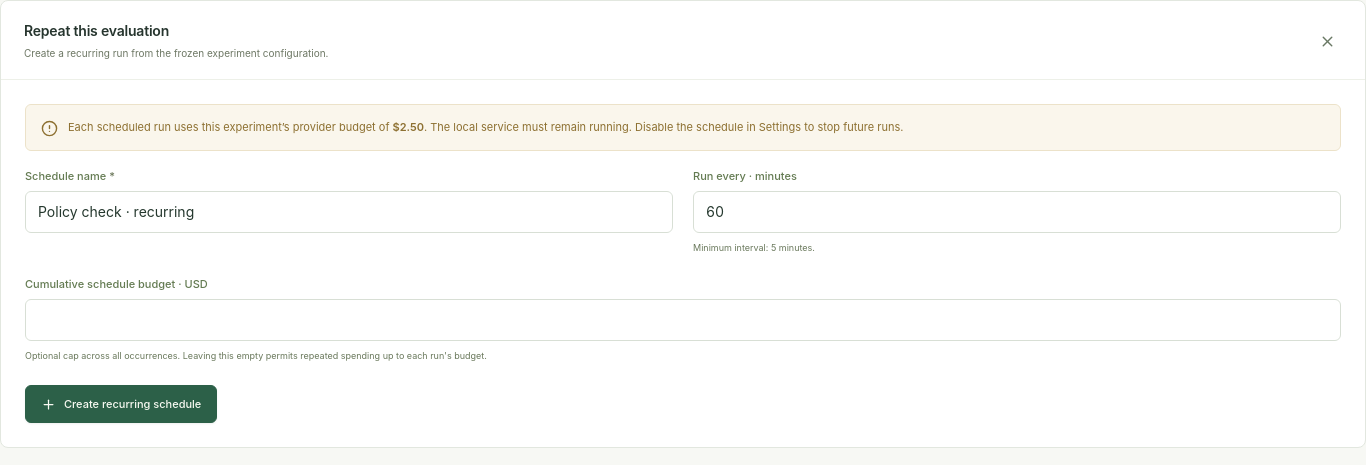
Test: recurring evaluation admission › discloses the per-run budget and creates a schedule only on explicit submission
Expected: the text "$2.50" is shown, 393,120 -> 424,134
Expected: the text "local service must remain running" is shown, 424,120 -> 904,134
Replace the text in the number field labelled "Run every · minutes" with "120" at (1017, 212), box 693,191 -> 1341,233
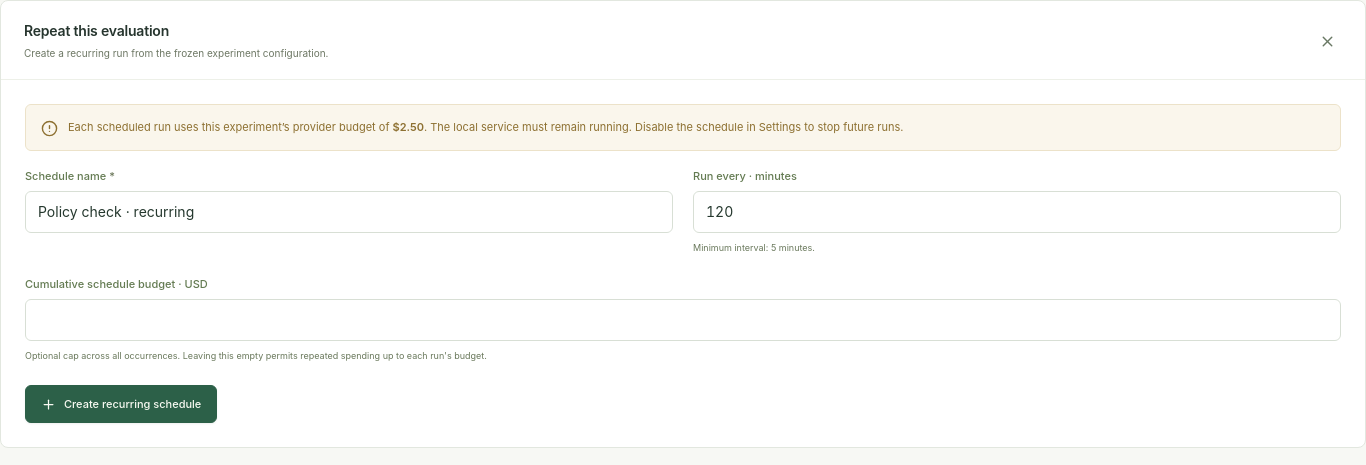
Click the button "Create recurring schedule" at (121, 404), box 25,385 -> 217,423
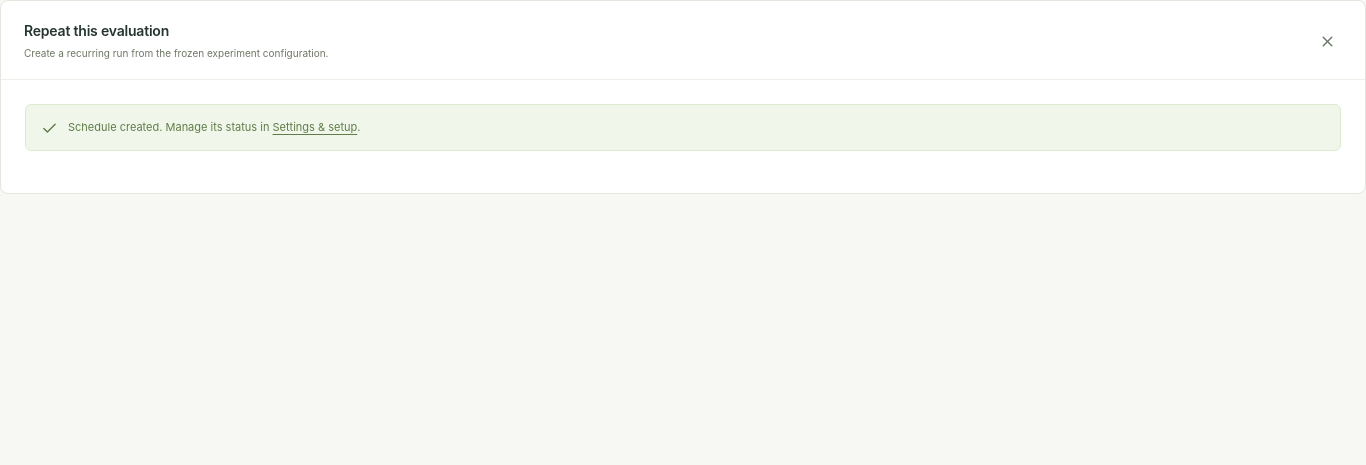
Expected: the text "Schedule created. Manage its status in Settings & setup ." is shown, 68,118 -> 360,137
